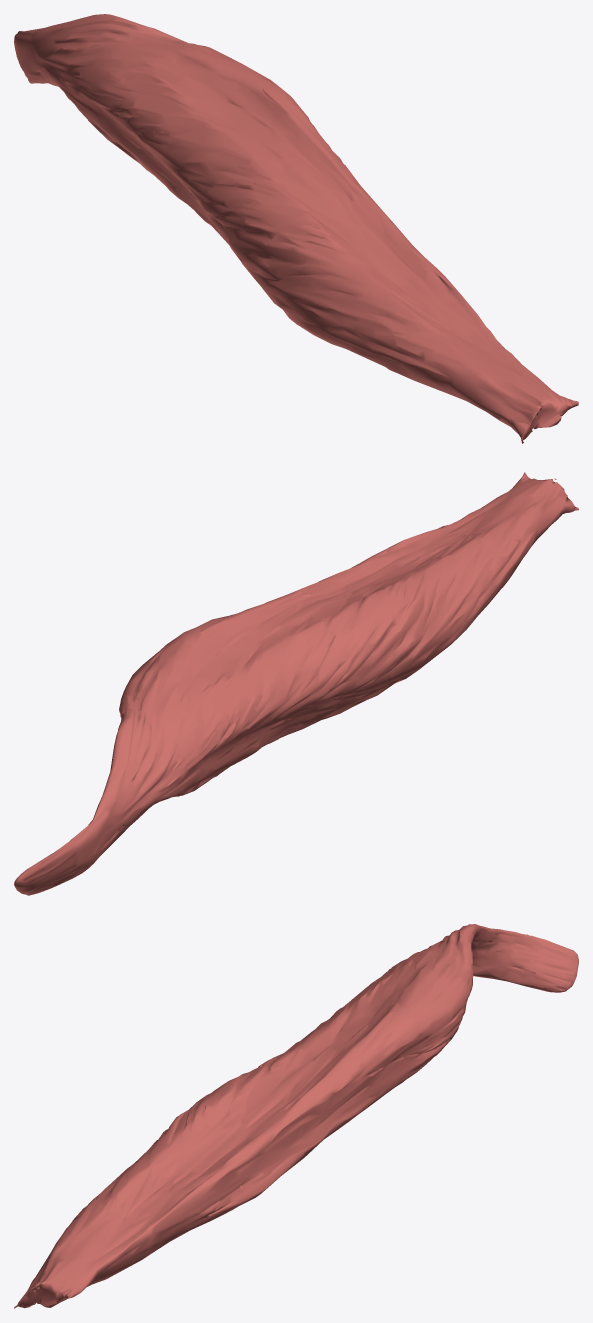
3 renders of one model, top to bottom at view 1: azimuth 30°, elevation 25°; view 2: azimuth 150°, elevation 25°; view 3: azimuth 330°, elevation 25°, orthographic. The views are drawn at different scales.
Parts seen in each view (by area): view 1: 左侧半膜肌; view 2: 左侧半膜肌; view 3: 左侧半膜肌.
Boxes of the visible parts, box(x1,y1,x2,y2) form: 左侧半膜肌: box(14, 14, 578, 443); 左侧半膜肌: box(14, 472, 578, 895); 左侧半膜肌: box(14, 924, 578, 1308).
Bounding box in the file's own units: 0.094 × 0.0812 × 0.6155.
